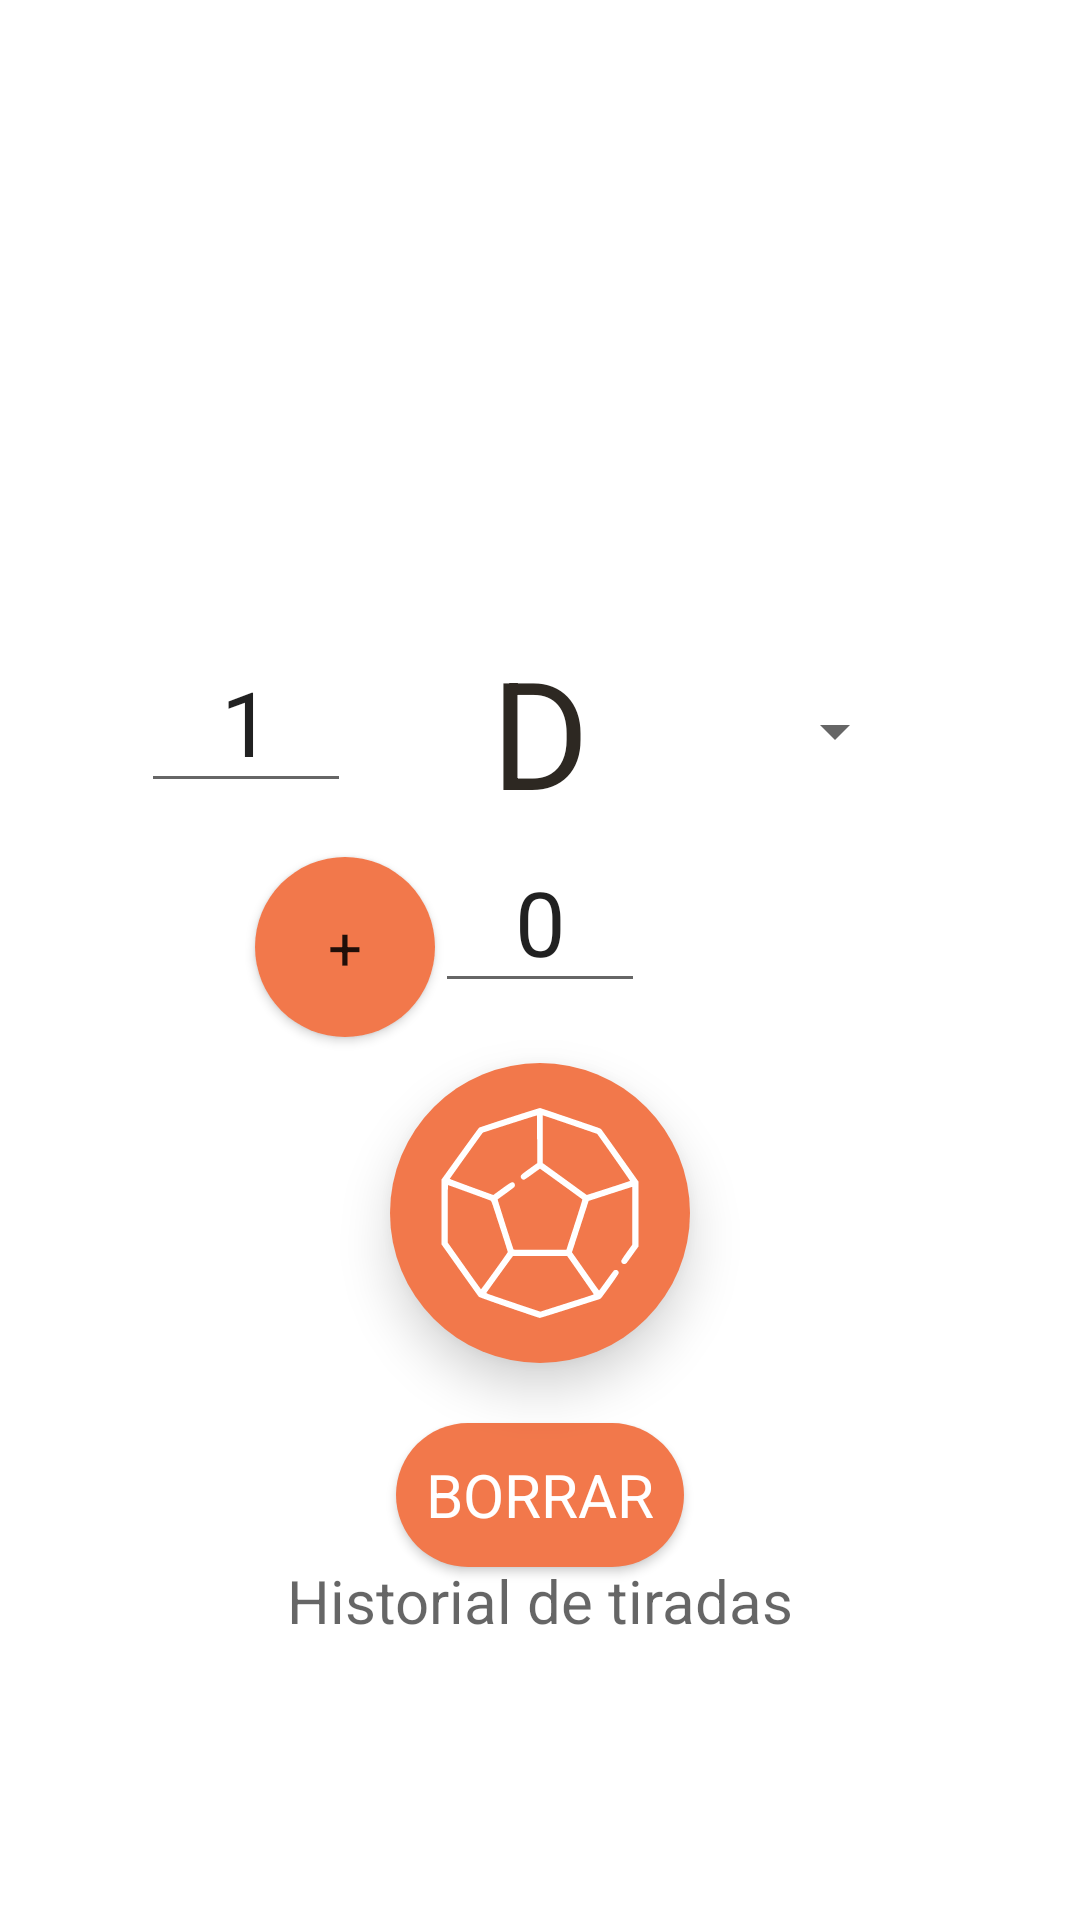

Screen size 1080 × 1920. Icon name, then its center in pixels as (x=x, y=y):
dice: (x=540, y=1213)
